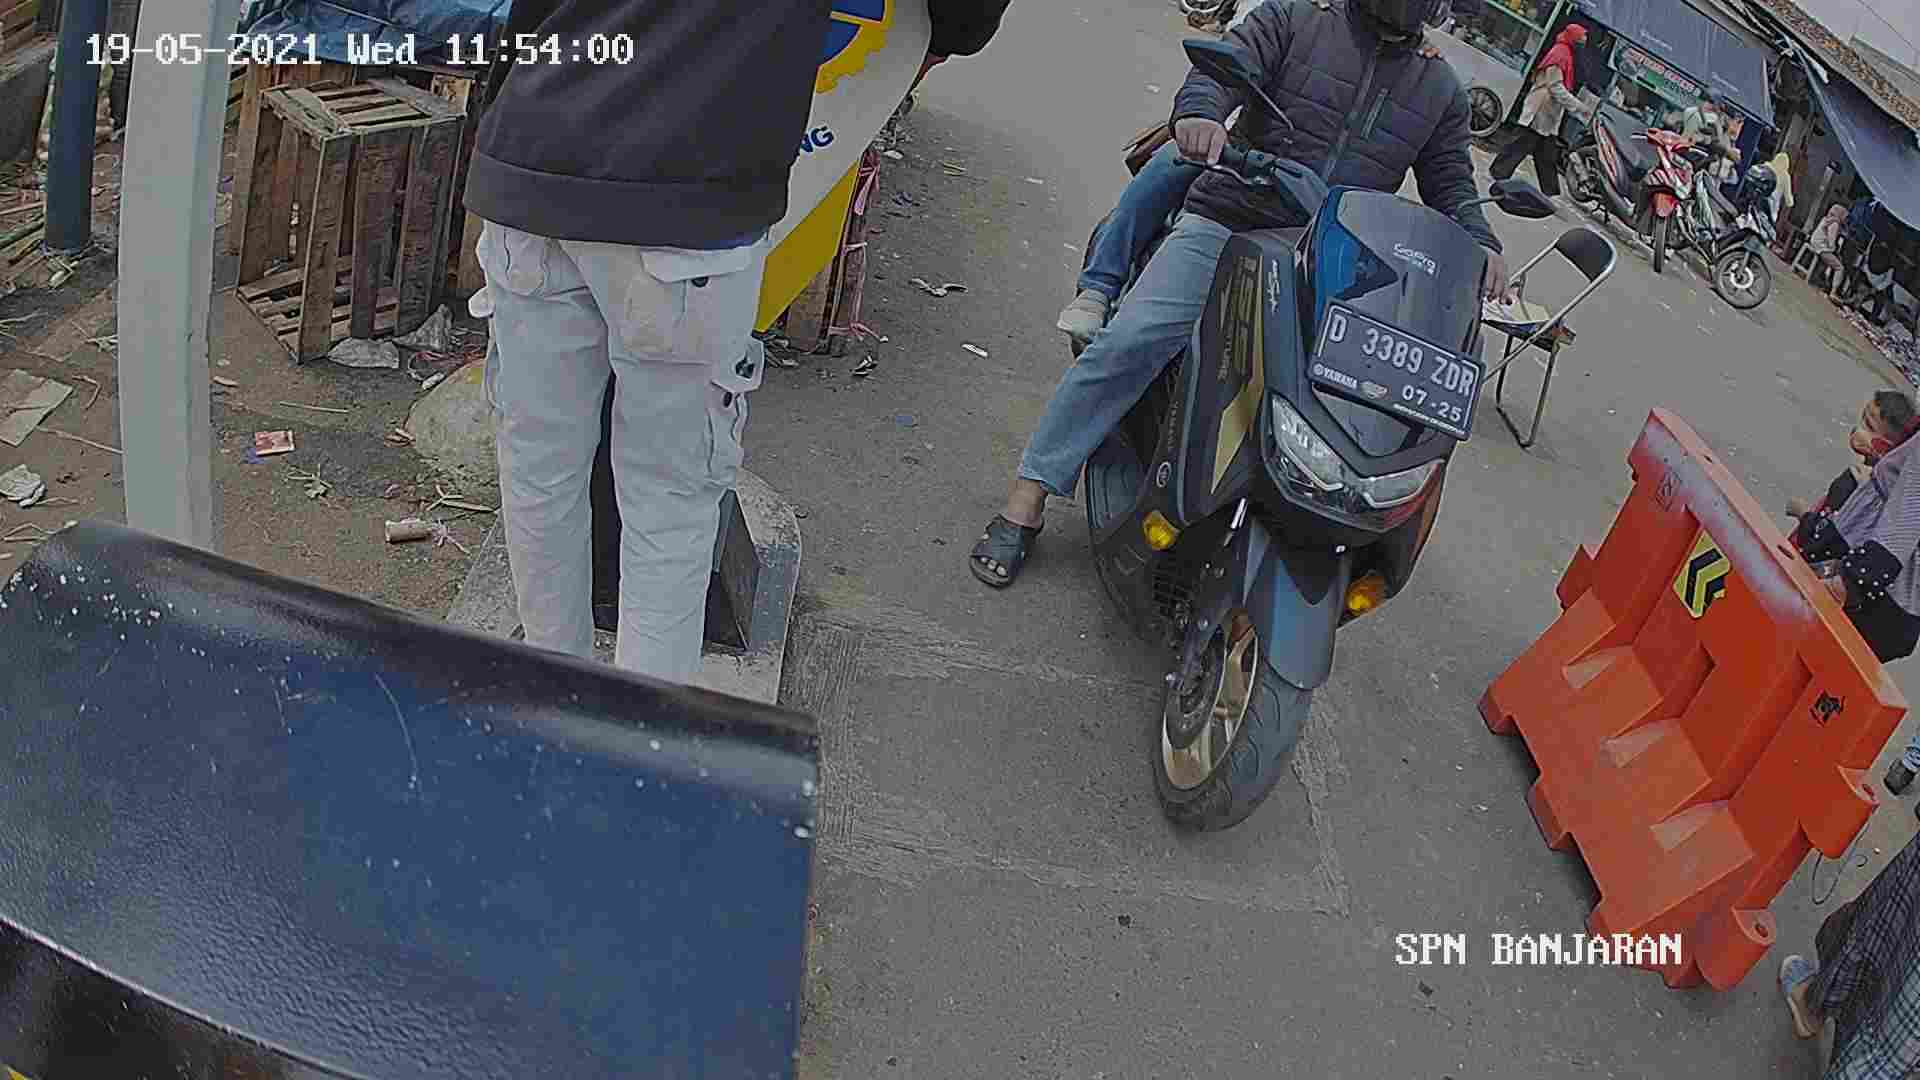motor: (1030, 169, 1510, 806)
